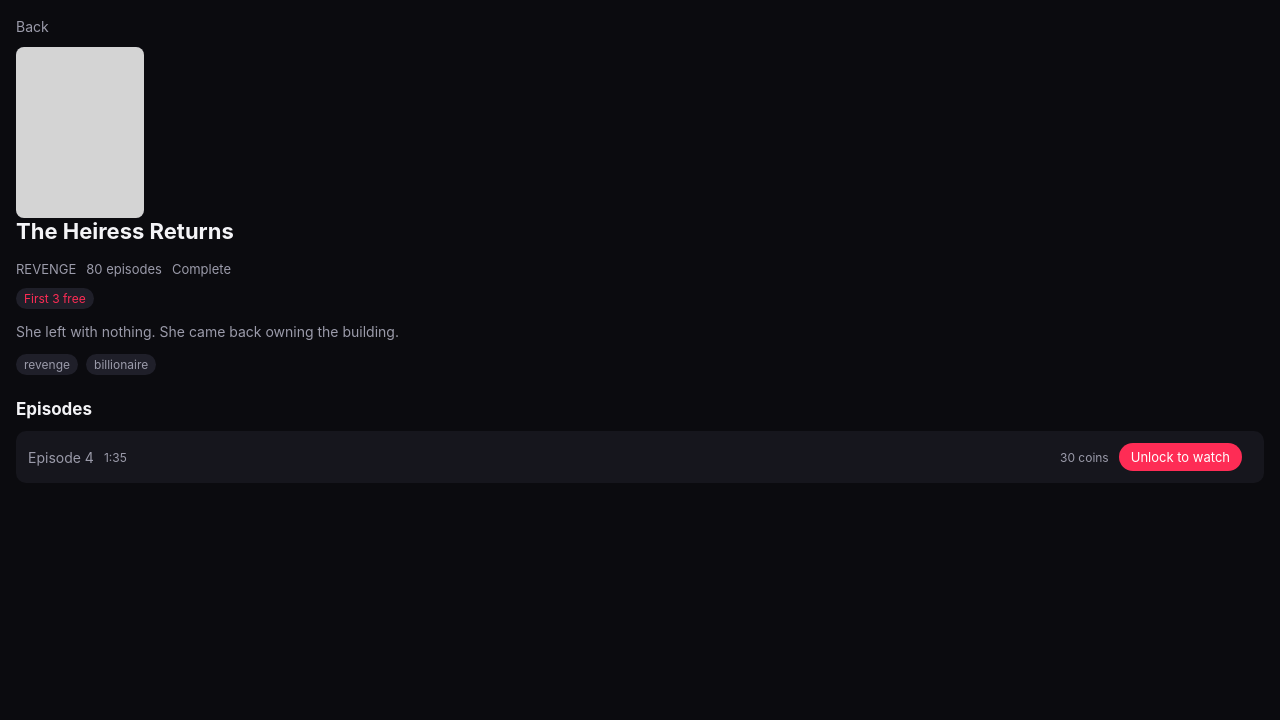
Scenario: the unlock panel opens from the episode list › closes again without touching the list
Expected: the list with test id "episode-list" is shown, [16, 431, 1264, 483]
Click the button with test id "episode-action" at (1180, 457), box [1119, 443, 1242, 471]
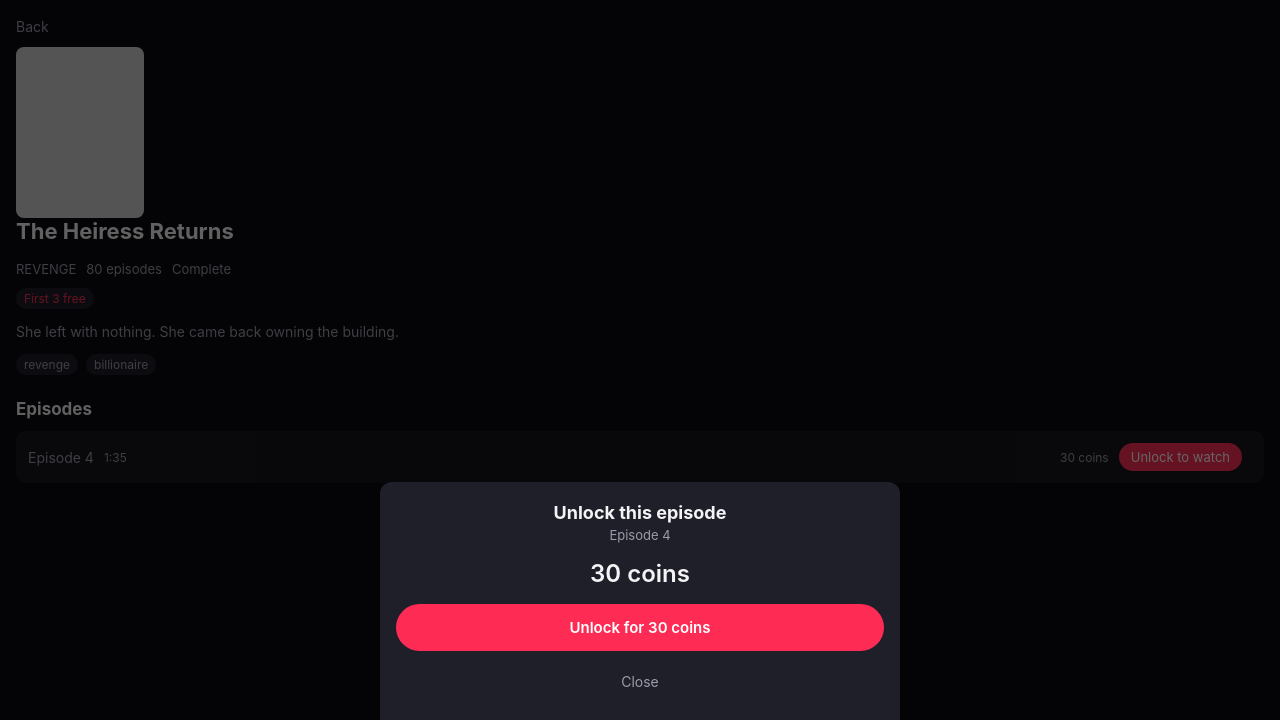
Now the element with test id "unlock-panel" is shown
Click the button with test id "unlock-panel-close" at (640, 682), box [396, 663, 884, 700]
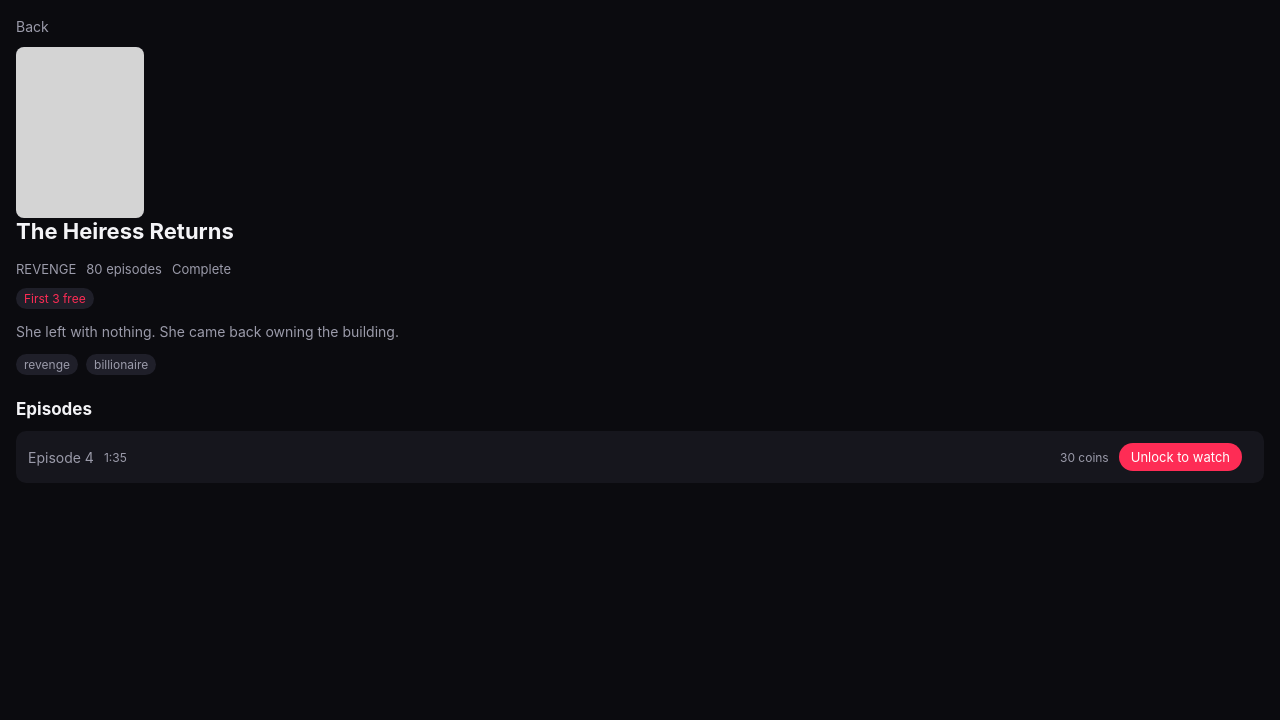
Now the element with test id "unlock-panel" is gone
